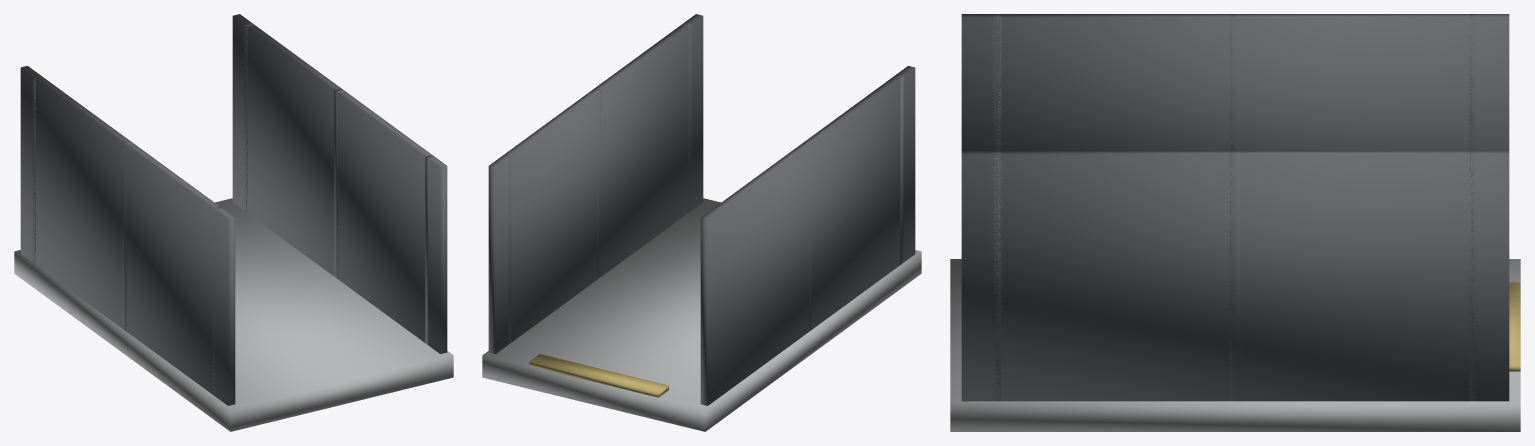
The model's file is floor_w125_d210_sides.glb.
3 renders of one model, left to right at view 1: azimuth 30°, elevation 25°; view 2: azimuth 150°, elevation 25°; view 3: azimuth 270°, elevation 25°, orthographic. The views are drawn at different scales.
Parts seen in each view (by area): view 1: world; view 2: world; view 3: world.
Boxes of the visible parts, left/top/right/bottom form: world: left=14, top=14, right=453, bottom=431; world: left=482, top=14, right=921, bottom=431; world: left=950, top=14, right=1520, bottom=431.
Size of the model in its own units: 1.25 by 1.12 by 2.1.
